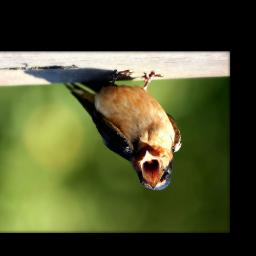Swallow: (63, 69, 183, 191)
